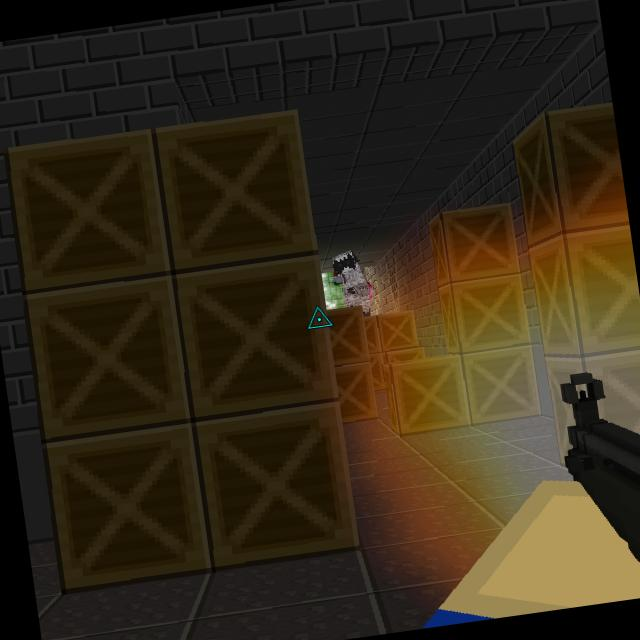enemy: (328, 246, 378, 322)
